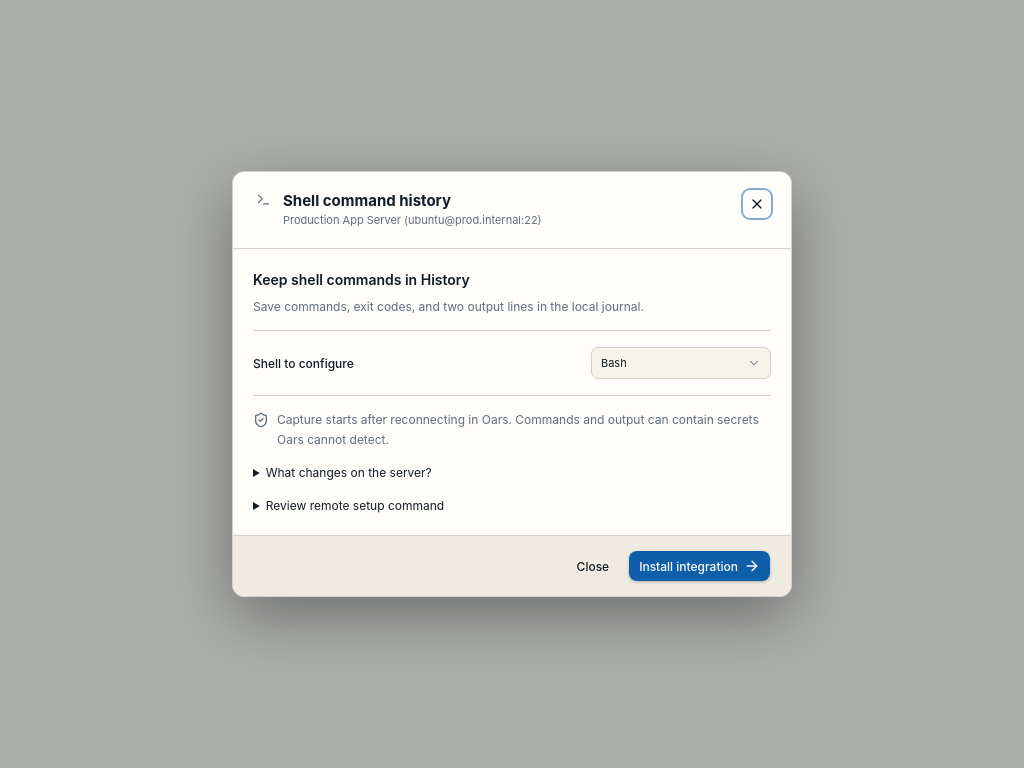
Test: shell setup approval and persistence › does not enable capture when installation fails
Click the button "Install integration" at (700, 566), box [628,550,771,582]
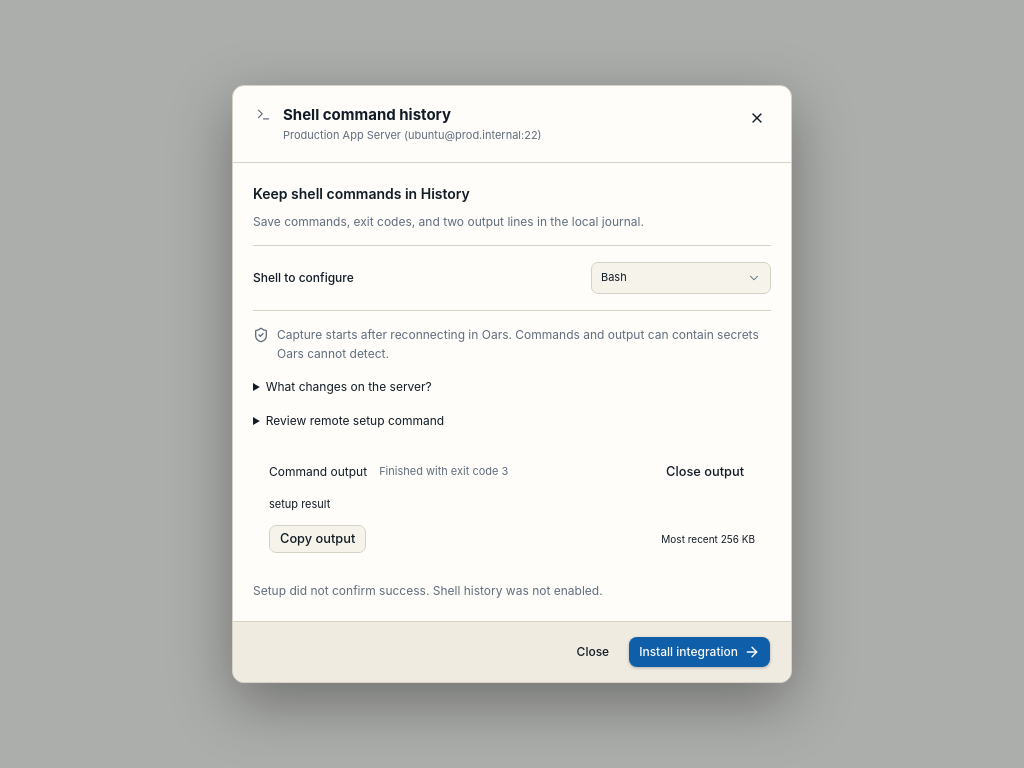
Expected: the text "Setup did not confirm success. Shell history was not enabled." is shown, [253,583,603,598]
